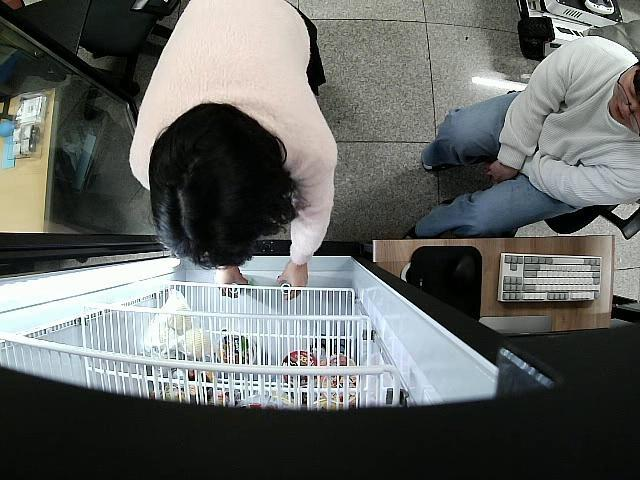18_trevi: (279, 281, 293, 297)
